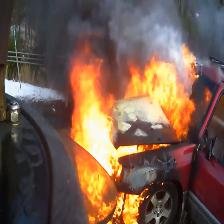fire: (58, 43, 218, 224)
smoke: (15, 0, 224, 83)
